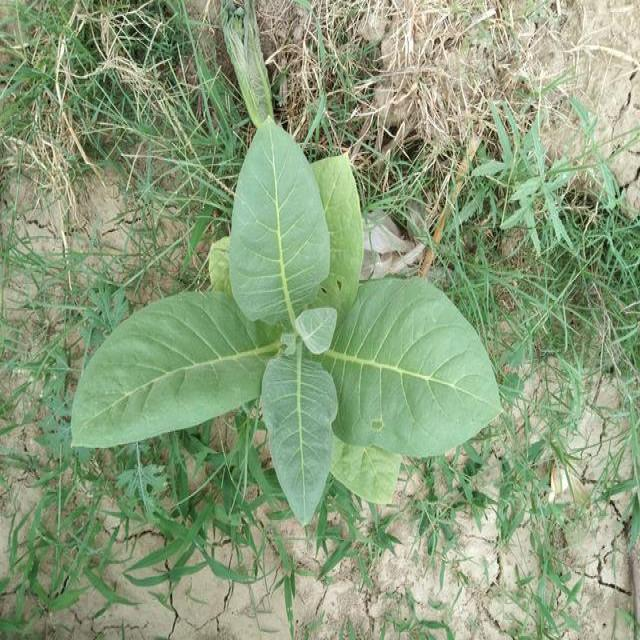crop: (69, 110, 510, 518)
